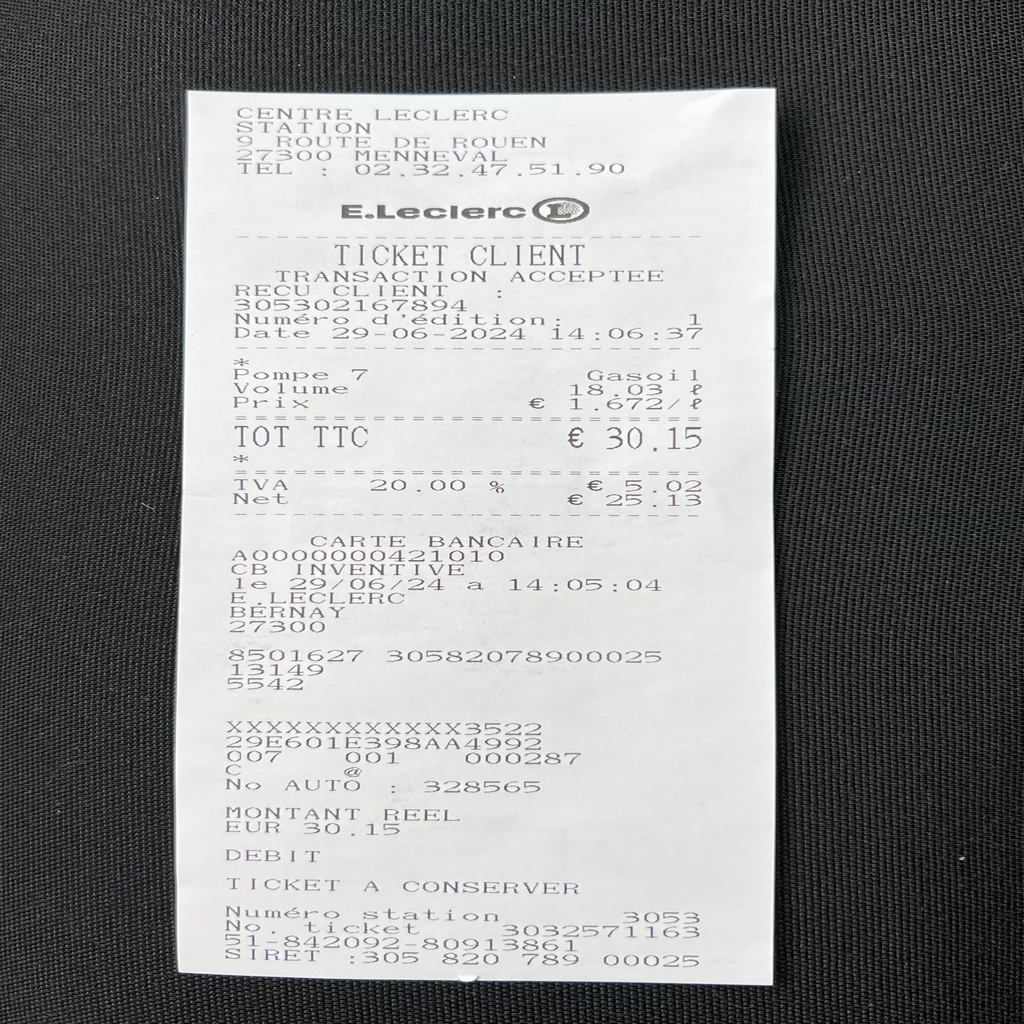recipt: (176, 84, 778, 986)
